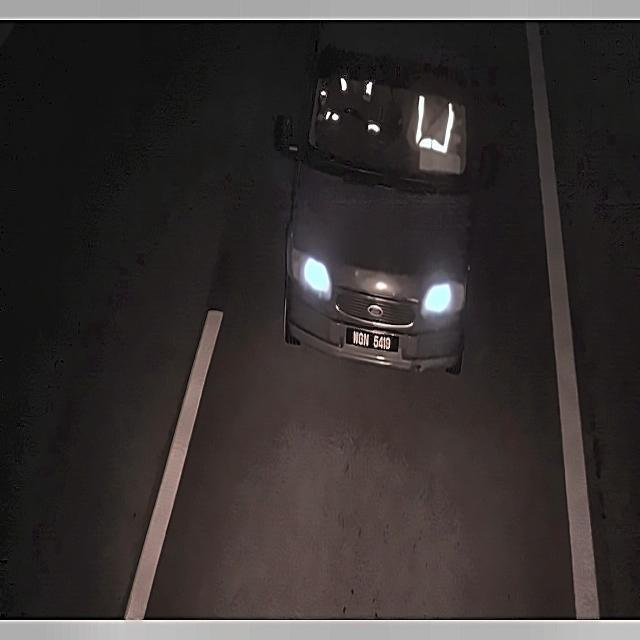car: (342, 317, 400, 364)
